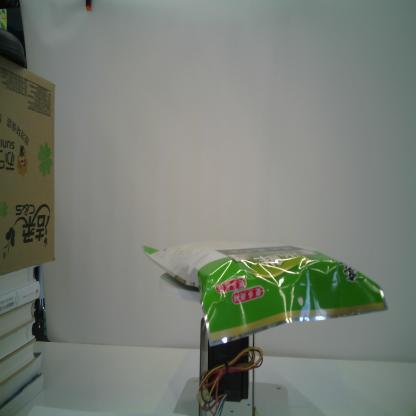Dried Food: (138, 238, 391, 350)
